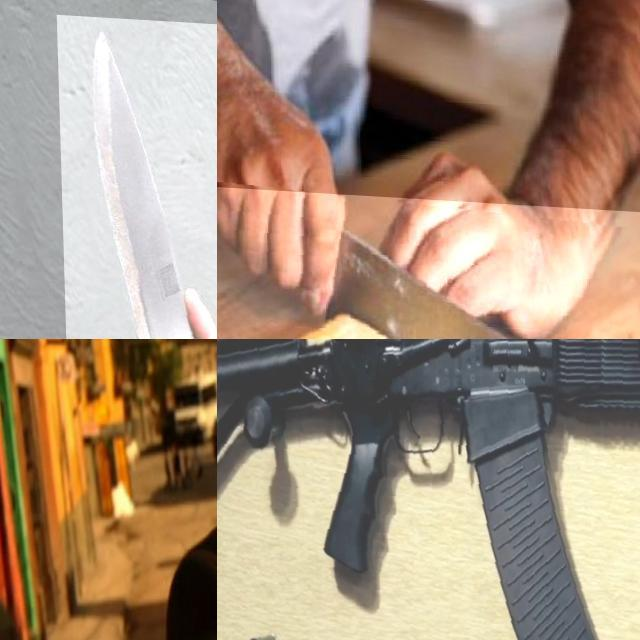-: (217, 184, 640, 339), (56, 11, 217, 339)
gun-knife-thesis - v11 Yolov5 augmented: (217, 339, 640, 640)
